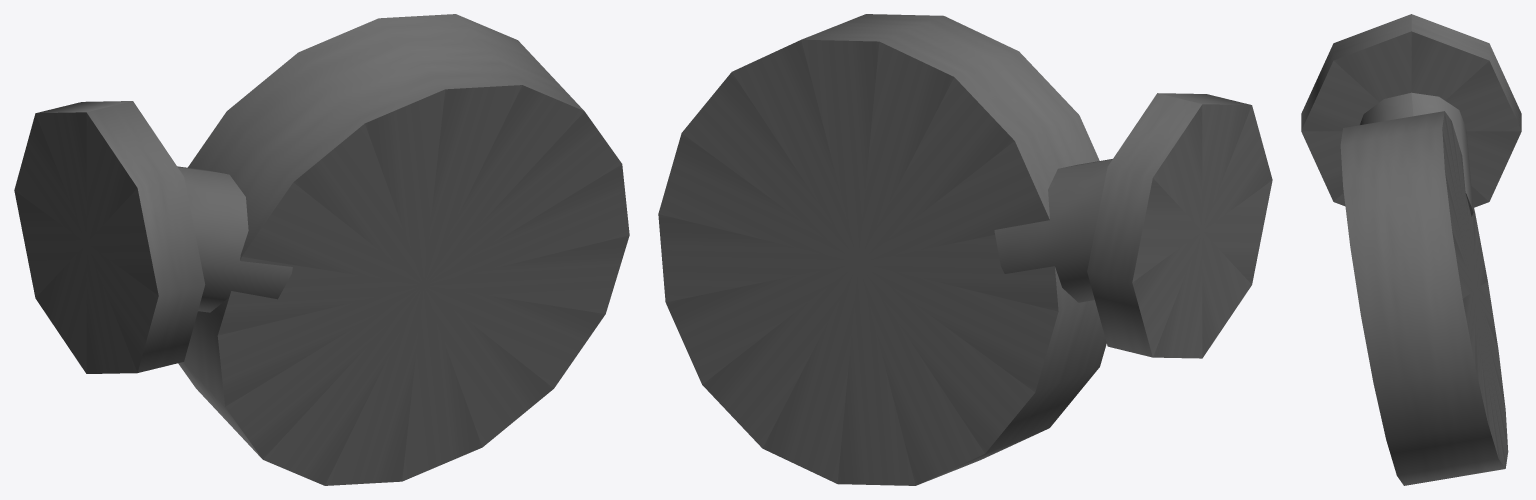
File: mastarmcurve_4x1_c3_west.obj
The picture shows the model from 3 angles, left to right: view 1: azimuth 30°, elevation 25°; view 2: azimuth 150°, elevation 25°; view 3: azimuth 270°, elevation 25°; orthographic projection. The views are drawn at different scales.
Parts seen in each view (by area): view 1: mastarm_4x1_c3_west; view 2: mastarm_4x1_c3_west; view 3: mastarm_4x1_c3_west.
Boxes of the visible parts, x1,y1,x2,y2 form: mastarm_4x1_c3_west: [14, 14, 629, 485]; mastarm_4x1_c3_west: [658, 14, 1272, 485]; mastarm_4x1_c3_west: [1301, 14, 1521, 485].
Bounding box in the file's own units: 0.8287 × 0.6817 × 0.4.
